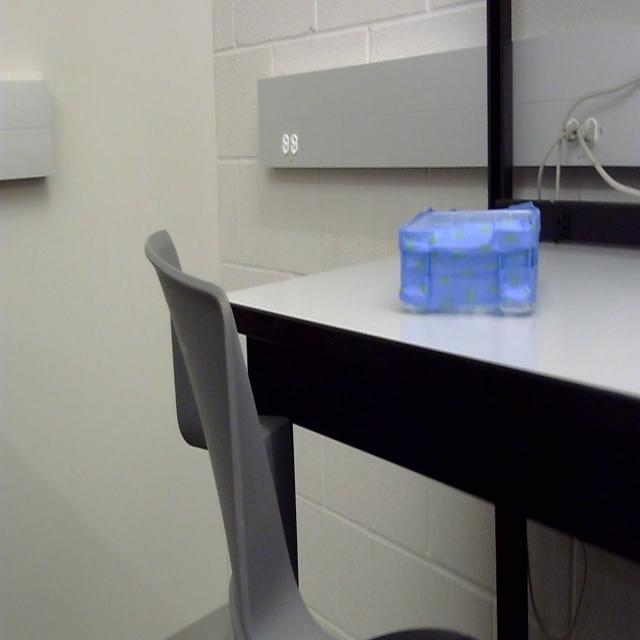bucket: (398, 200, 544, 320)
